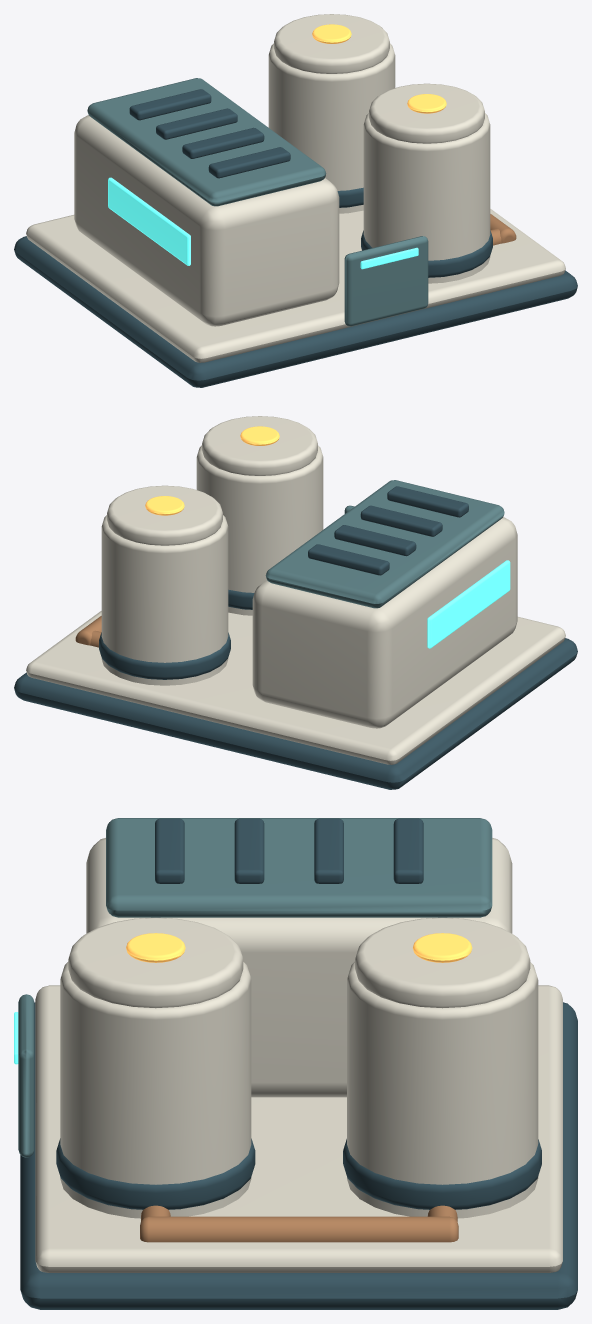
The model's file is refinery.glb.
3 renders of one model, top to bottom at view 1: azimuth 30°, elevation 25°; view 2: azimuth 150°, elevation 25°; view 3: azimuth 270°, elevation 25°, orthographic. The views are drawn at different scales.
Parts seen in each view (by area): view 1: Architecture; view 2: Architecture; view 3: Architecture.
Boxes of the visible parts, <box> form: Architecture: <box>14,14,577,387</box>; Architecture: <box>14,416,577,789</box>; Architecture: <box>14,818,577,1309</box>.
Bounding box in the file's own units: 3.4 × 1.61 × 2.83.
